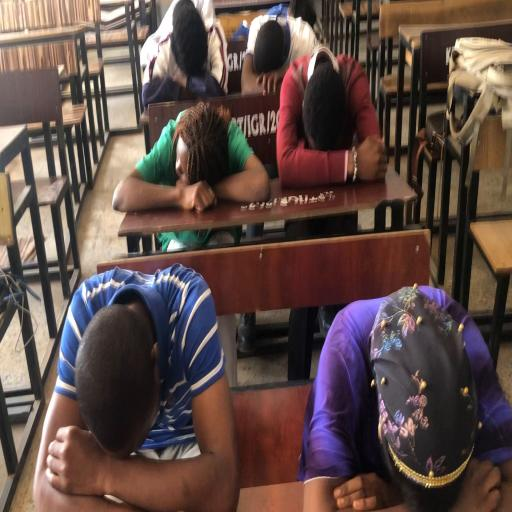Sleeping: (34, 261, 240, 509), (297, 284, 512, 508), (112, 97, 272, 219), (276, 12, 382, 188), (407, 26, 505, 178), (150, 3, 232, 150), (0, 267, 44, 509), (140, 0, 228, 106), (238, 19, 292, 179)
